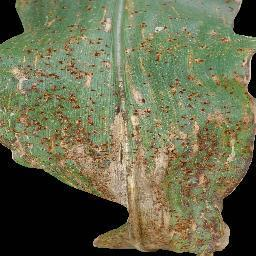Corn_Common_Rust: (120, 0, 256, 256), (0, 0, 119, 204)
